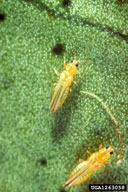Thrips: (59, 137, 115, 185), (48, 53, 82, 115)
